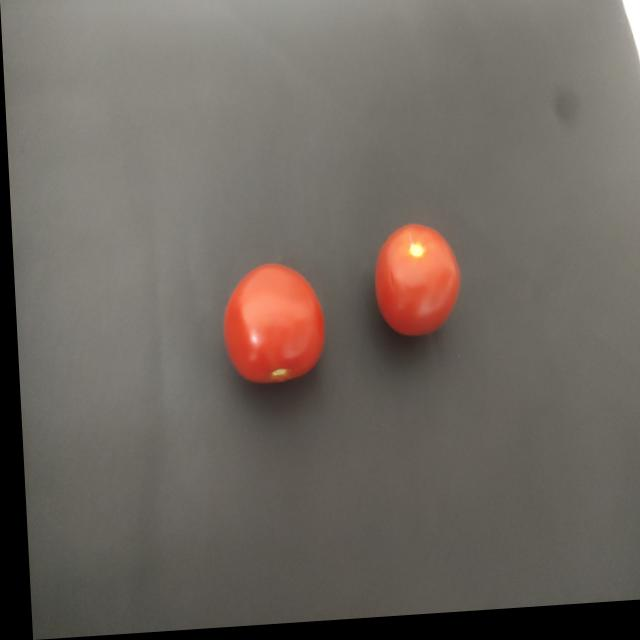kirmizi: (201, 245, 347, 416), (351, 197, 477, 367)
